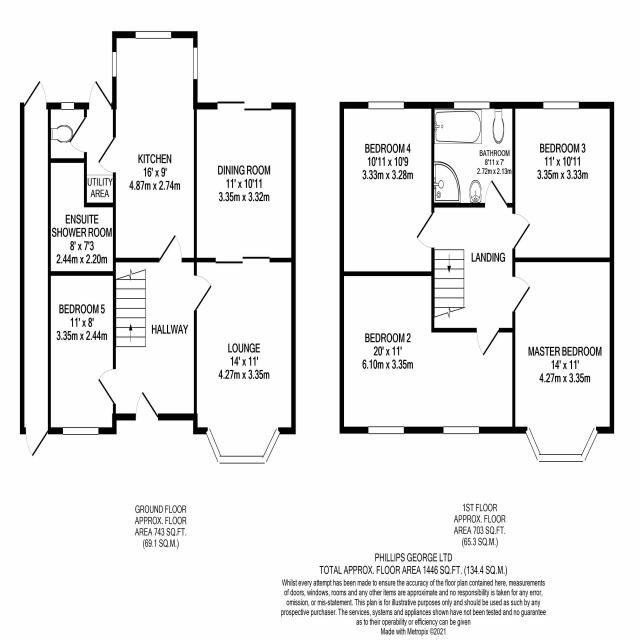DOOR: (97, 136, 116, 174), (135, 391, 159, 421), (88, 80, 112, 110), (512, 276, 531, 313), (68, 116, 87, 153), (484, 179, 508, 208), (159, 233, 182, 263), (194, 274, 212, 312), (476, 328, 499, 357), (416, 212, 434, 249), (512, 213, 530, 250), (98, 368, 116, 405)
ROOM: (339, 271, 515, 434), (97, 31, 198, 263), (193, 257, 296, 465), (512, 257, 614, 463), (339, 102, 435, 276), (193, 102, 296, 263), (512, 102, 614, 262), (48, 271, 117, 435)
SLIDING DOOR: (216, 100, 273, 112)
WINDOW: (205, 427, 281, 465), (525, 426, 599, 463), (62, 426, 99, 435), (368, 426, 404, 435), (443, 426, 479, 435), (368, 101, 404, 110), (454, 101, 490, 110), (543, 101, 579, 110), (135, 31, 171, 39), (193, 47, 198, 80), (112, 51, 117, 77), (61, 102, 74, 110)
